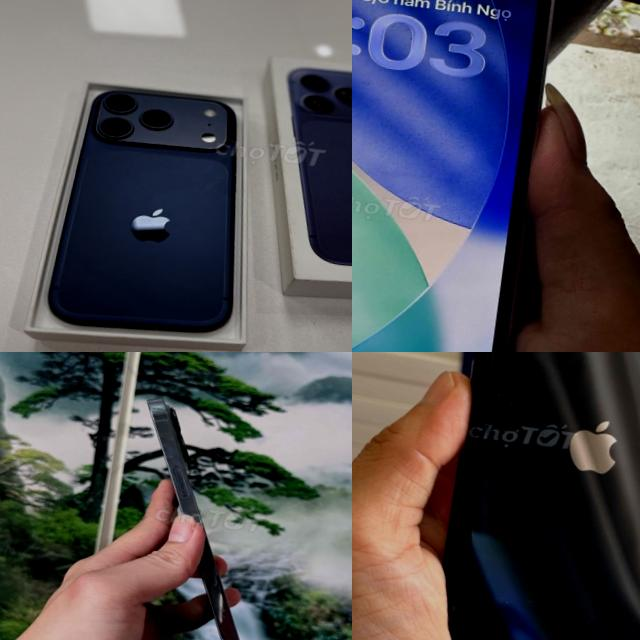gen_12_13: (352, 0, 556, 352), (436, 352, 640, 640), (107, 385, 282, 640)
gen_17: (49, 71, 263, 345)
